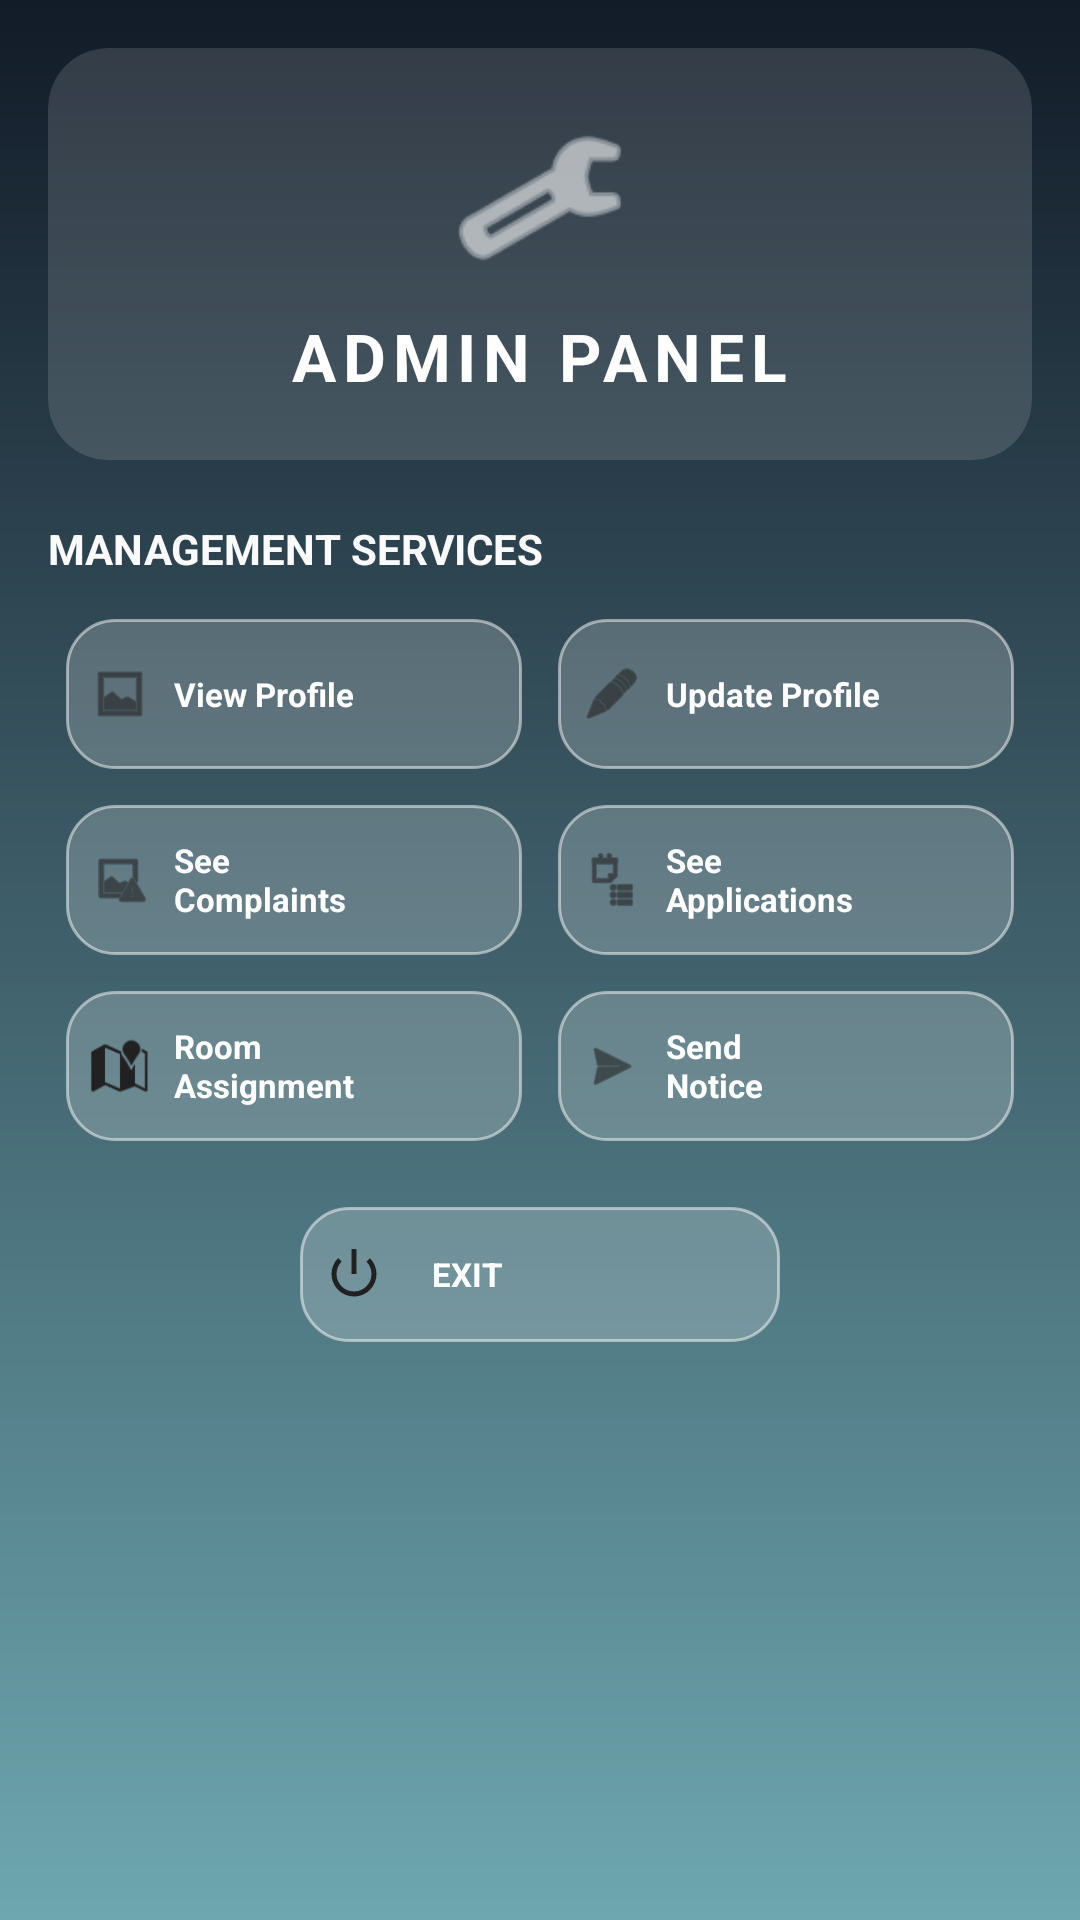

Point at icon controls on the screen. Image size 1080*1920, points as [x,y].
gallery: [120,694]
Rooms: [119,1066]
